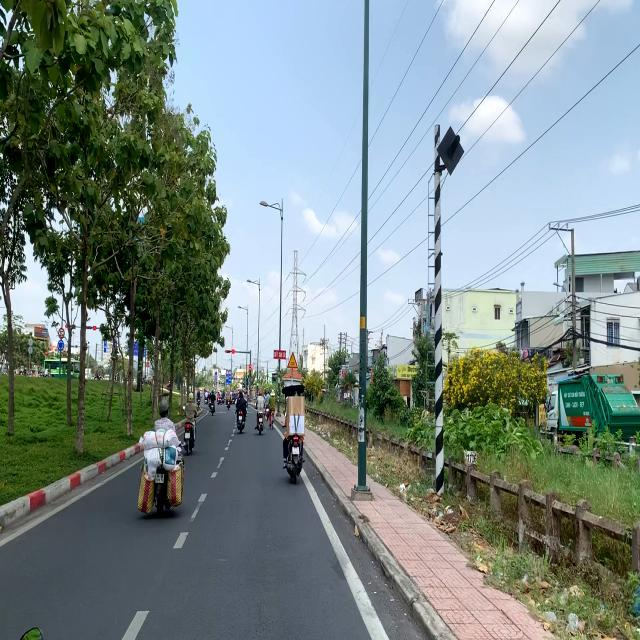Giao nhau voi duong sat co rao chan: (287, 350, 298, 370)
